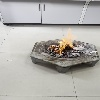fire: (48, 28, 77, 54)
